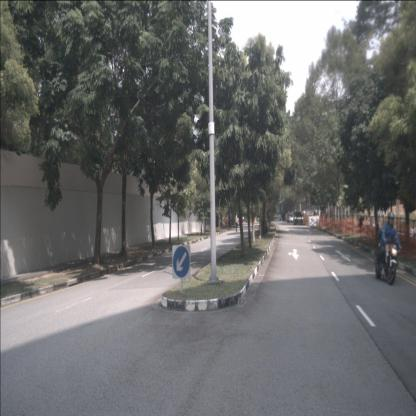human-pedestrian-adult: (235, 214, 239, 233)
vehicle-car: (293, 212, 303, 224), (237, 216, 245, 224), (287, 214, 294, 223)
vehicle-motorcycle: (374, 212, 404, 284)
